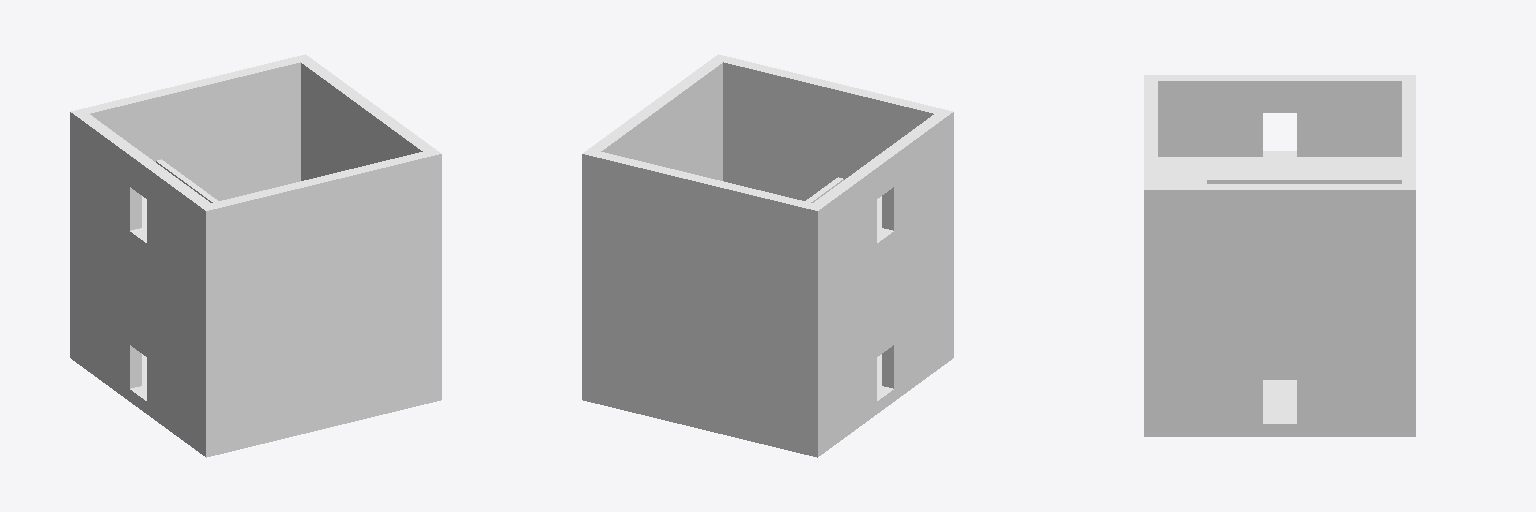
File: SecondFloorRoom.obj
3 renders of one model, left to right at view 1: azimuth 30°, elevation 25°; view 2: azimuth 150°, elevation 25°; view 3: azimuth 270°, elevation 25°, orthographic.
Parts seen in each view (by area): view 1: object 1; view 2: object 1; view 3: object 1.
Part boxes in pixels (x1,y1,x2,y2): object 1: (70, 54, 441, 457); object 1: (582, 54, 953, 457); object 1: (1144, 75, 1415, 436).
Bounding box in the file's own units: 7.8 × 7.8 × 7.8.